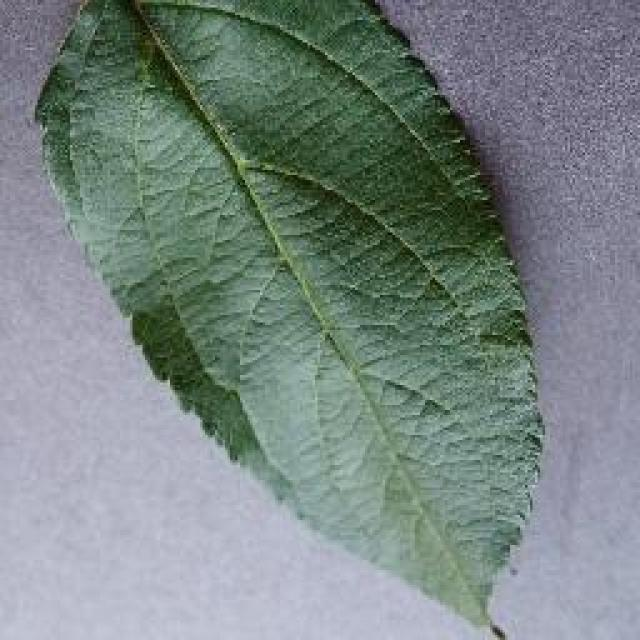apple healthy: (32, 0, 548, 638)
